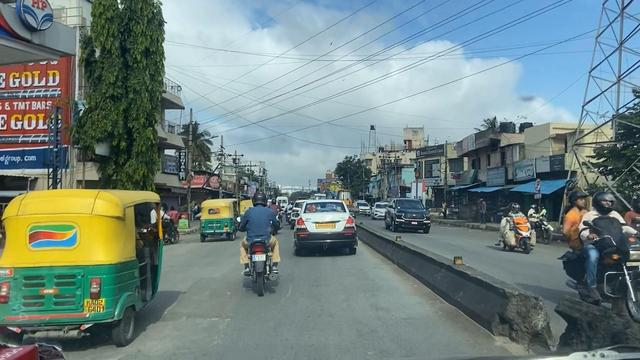LMV: (7, 190, 165, 338), (247, 178, 282, 300), (296, 201, 364, 258)
